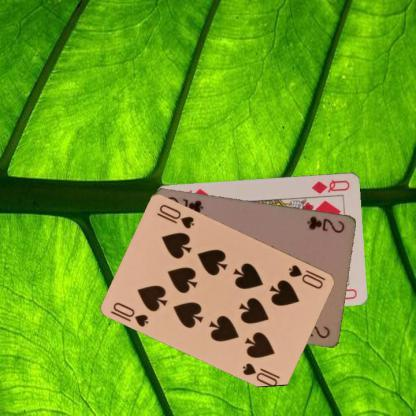10s: (286, 262, 327, 290), (111, 299, 150, 328)
2c: (305, 213, 346, 234)
Qd: (309, 177, 351, 195)
